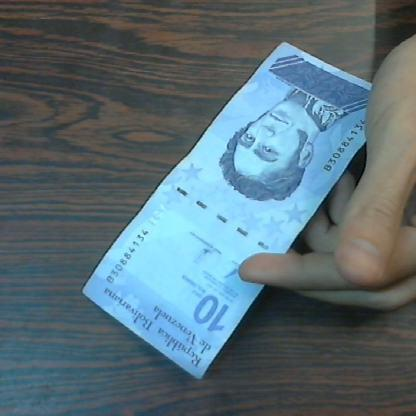ten-front-vef: (80, 44, 371, 383)
